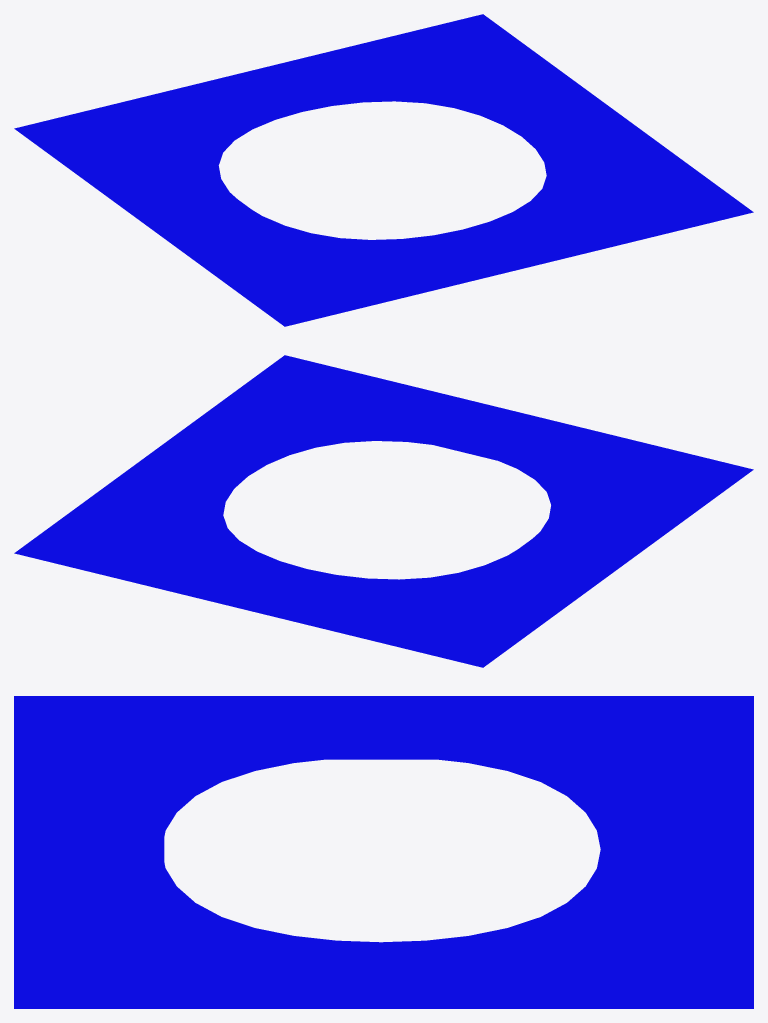
File: bluesphere.fbx
3 renders of one model, top to bottom at view 1: azimuth 30°, elevation 25°; view 2: azimuth 150°, elevation 25°; view 3: azimuth 270°, elevation 25°, orthographic. The views are drawn at different scales.
Visible parts, largest first — view 1: Plane, Plane.001; view 2: Plane, Plane.001; view 3: Plane, Plane.001.
Boxes of the visible parts, bbox=[...] form: Plane: bbox=[129, 63, 635, 277]; Plane.001: bbox=[14, 14, 753, 326]; Plane: bbox=[134, 403, 640, 617]; Plane.001: bbox=[14, 355, 753, 667]; Plane: bbox=[42, 706, 720, 992]; Plane.001: bbox=[14, 696, 753, 1008].
Size of the model in its own units: 400 by 0.8784 by 400.
